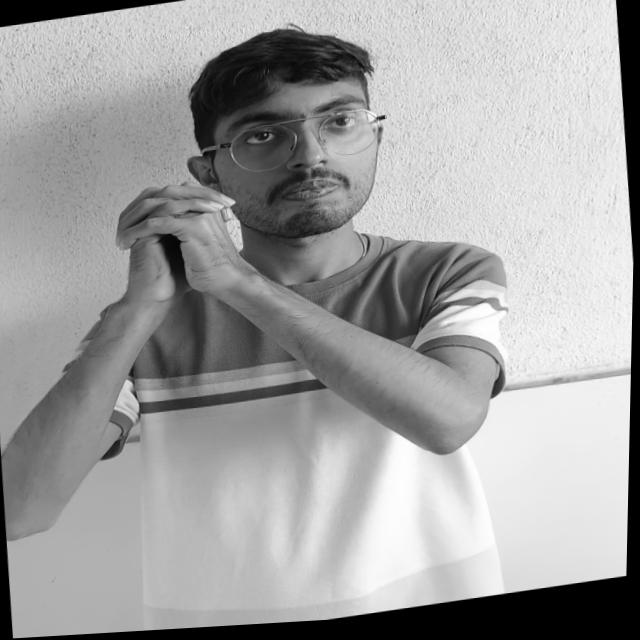Sorry: (82, 167, 291, 338)
